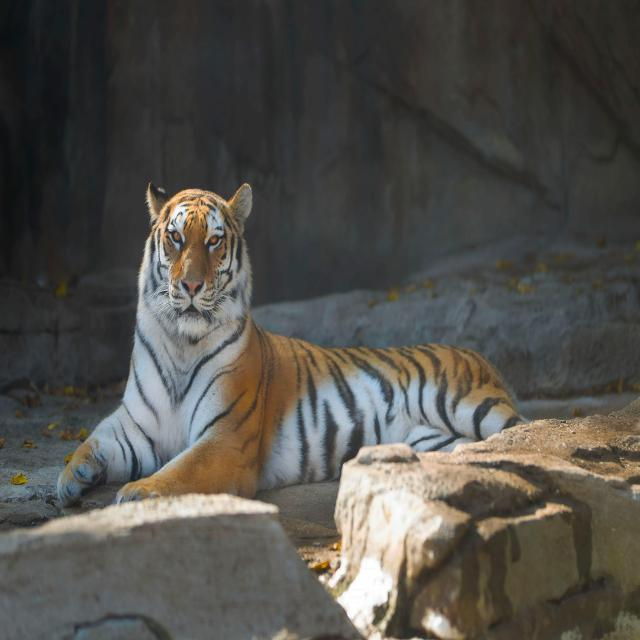Tiger: (59, 177, 522, 502)
